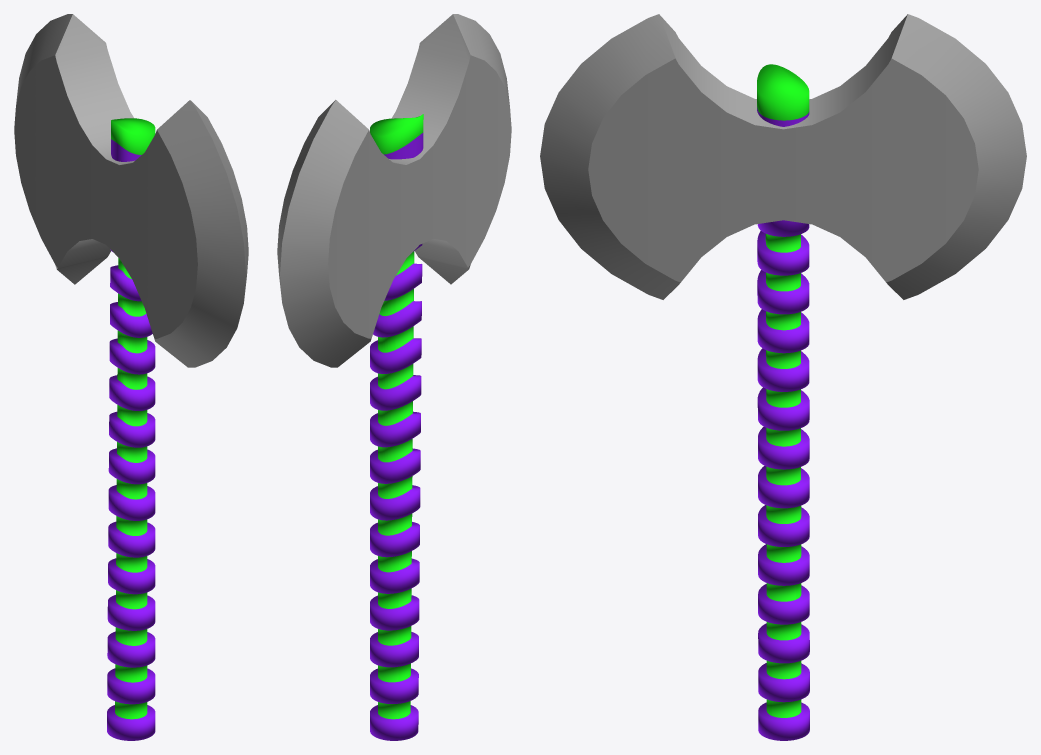
Rendered from Axe_7.fbx.
3 renders of one model, left to right at view 1: azimuth 30°, elevation 25°; view 2: azimuth 150°, elevation 25°; view 3: azimuth 270°, elevation 25°, orthographic. The views are drawn at different scales.
Visible parts, largest first — view 1: Head, Handle; view 2: Head, Handle; view 3: Head, Handle.
Part boxes in pixels (x1=…): Head: x1=14, y1=14, x2=248, y2=367; Handle: x1=107, y1=118, x2=155, y2=740; Head: x1=277, y1=14, x2=511, y2=367; Handle: x1=370, y1=114, x2=423, y2=740; Head: x1=540, y1=14, x2=1026, y2=299; Handle: x1=757, y1=64, x2=809, y2=740.
Bounding box in the file's own units: 0.0629 × 0.7966 × 0.4909.
Materials: 1 (1 with a texture image).
